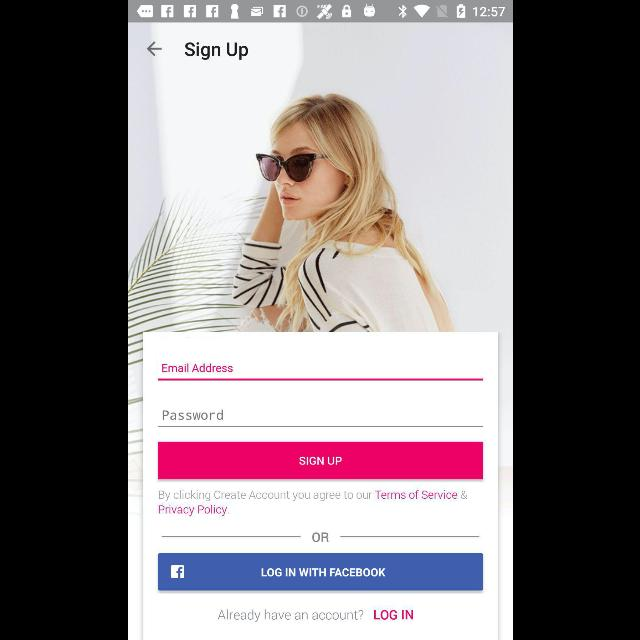icon: (146, 41, 162, 57)
input: (158, 409, 482, 427), (157, 364, 483, 381)
text: (158, 489, 466, 516), (217, 610, 363, 622), (184, 42, 248, 60), (373, 610, 412, 620), (312, 532, 328, 542)
textbutton: (158, 442, 482, 480), (158, 554, 482, 590)
uppertaskbar: (128, 1, 512, 23)
